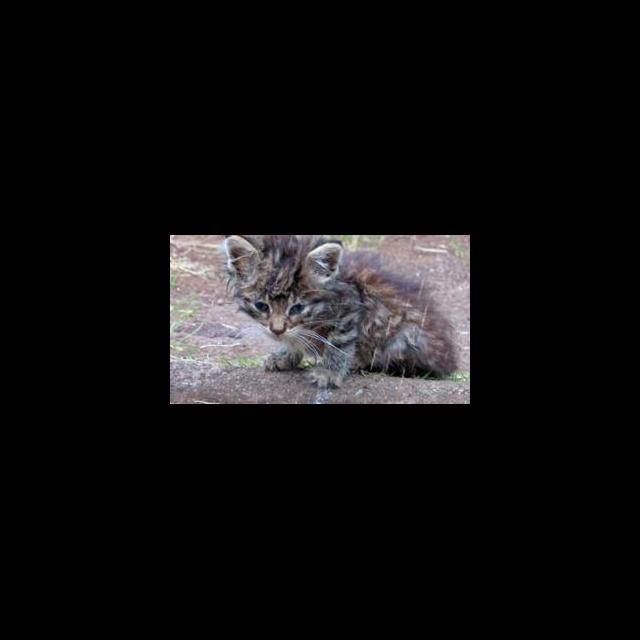animals: (220, 236, 460, 392)
